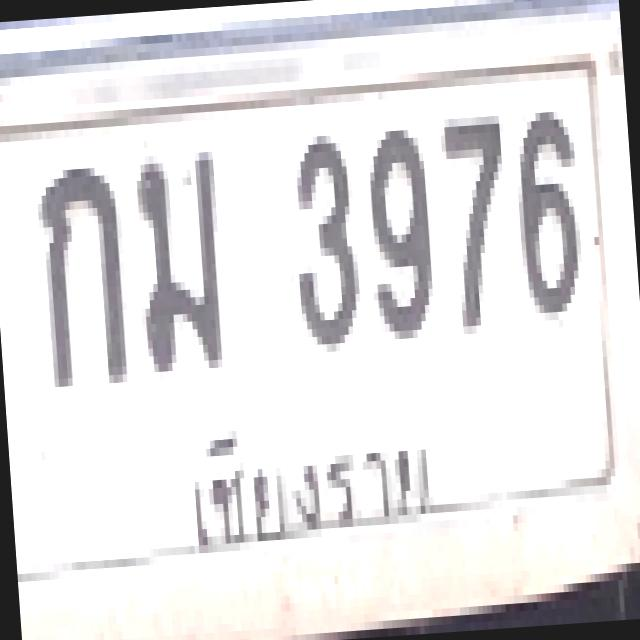license_plate: (0, 4, 632, 574)
